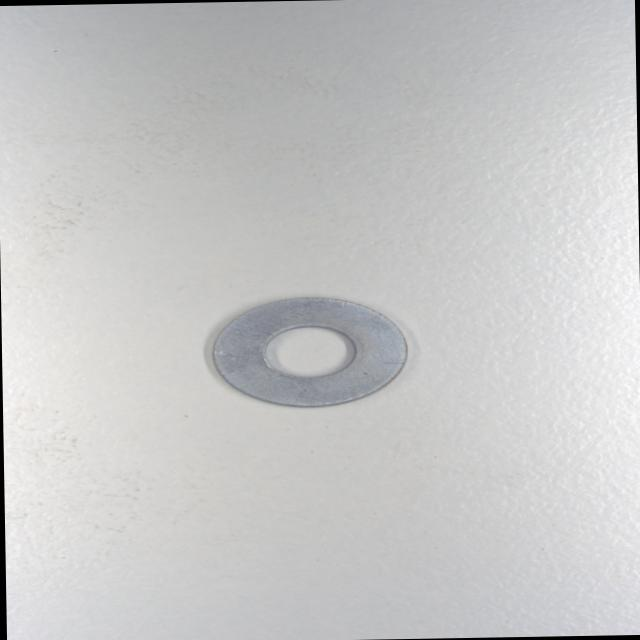washer: (208, 294, 410, 409)
